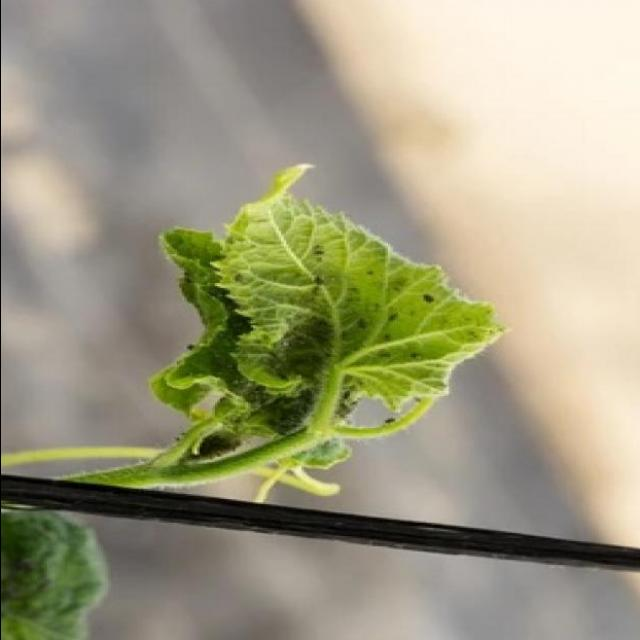Aphids: (346, 288, 441, 362), (260, 328, 314, 370), (256, 396, 300, 434), (336, 378, 364, 419), (302, 237, 344, 259)
